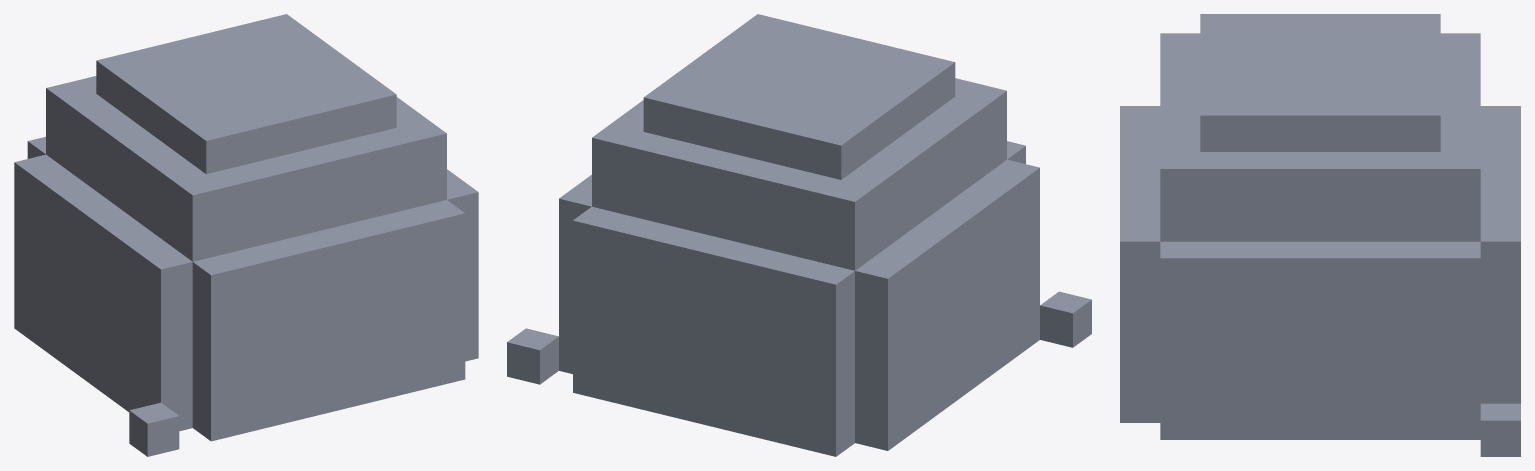
The model's file is rock.obj.
The picture shows the model from 3 angles, left to right: view 1: azimuth 30°, elevation 25°; view 2: azimuth 150°, elevation 25°; view 3: azimuth 270°, elevation 25°; orthographic projection. The views are drawn at different scales.
Bounding box in the file's own units: 1.2 × 0.8 × 1.
1 material, 1 textured.
